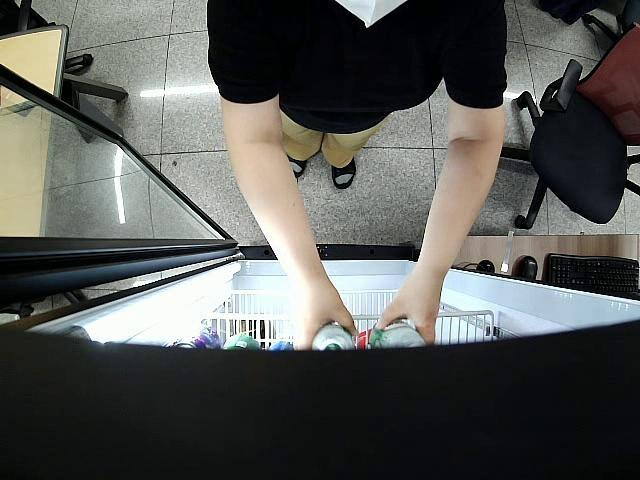18_trevi: (376, 320, 430, 349), (306, 324, 354, 354)
